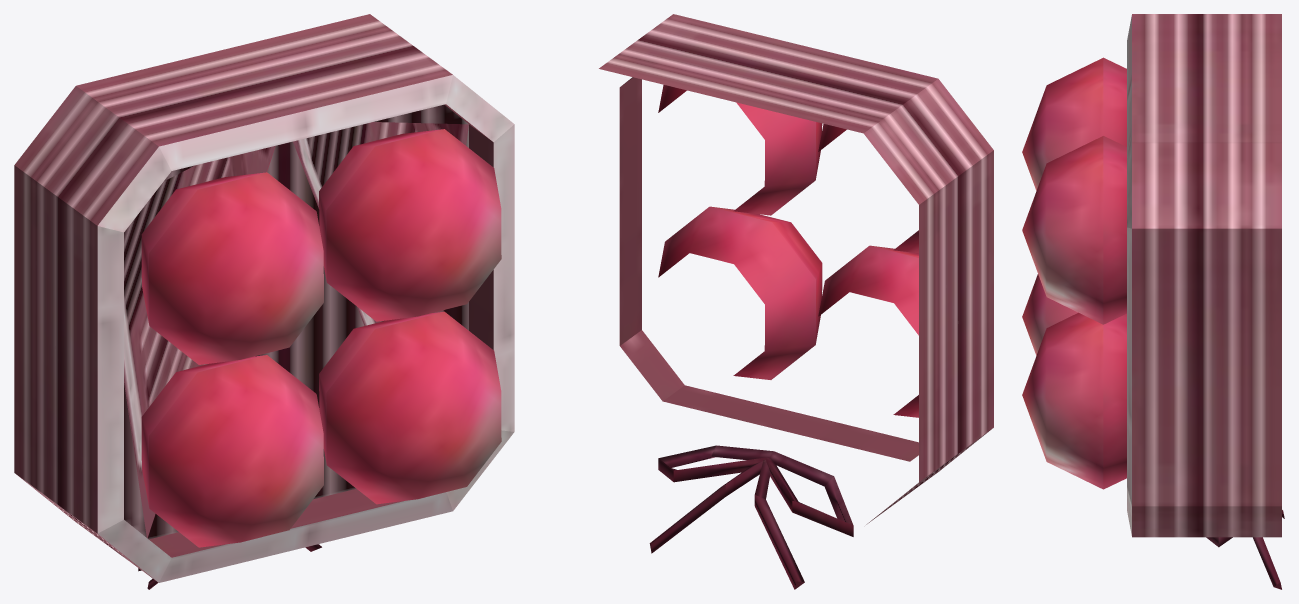
The model's file is chgateaux.glb.
3 views of the same model, side by side, from view 1: azimuth 30°, elevation 25°; view 2: azimuth 150°, elevation 25°; view 3: azimuth 270°, elevation 25° (orthographic). The views are drawn at different scales.
Parts seen in each view (by area): view 1: model_chgateaux; view 2: model_chgateaux; view 3: model_chgateaux.
Boxes of the visible parts, x1,y1,x2,y2 form: model_chgateaux: (14, 14, 514, 589); model_chgateaux: (599, 14, 993, 589); model_chgateaux: (1022, 14, 1284, 589).
Bounding box in the file's own units: 0.3875 × 0.4649 × 0.2343.
1 material, 1 textured.
